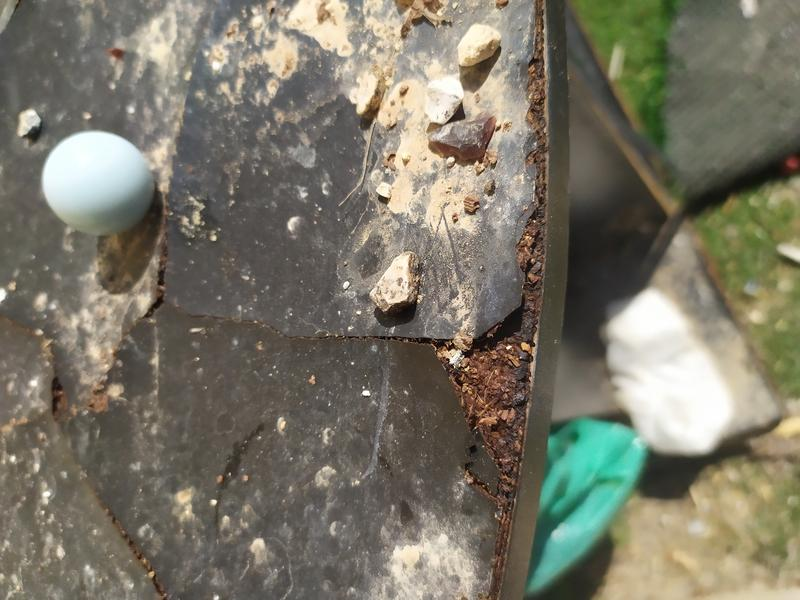Warning: (39, 127, 158, 239)
